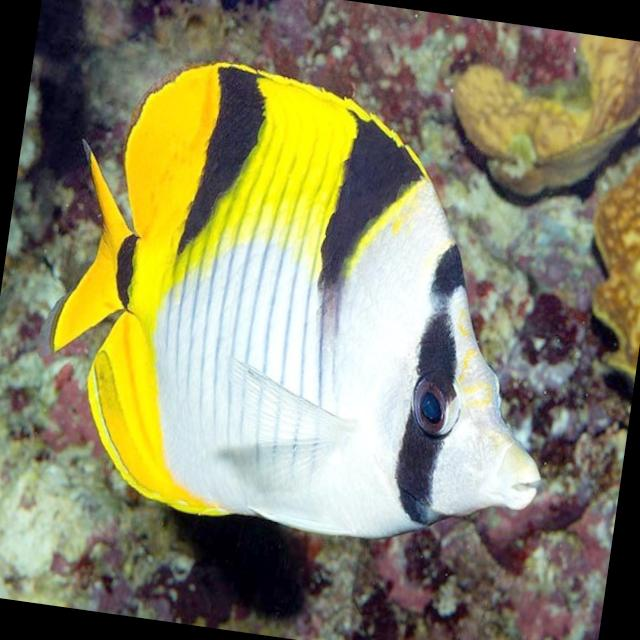ButterflyFish: (33, 48, 590, 561)
